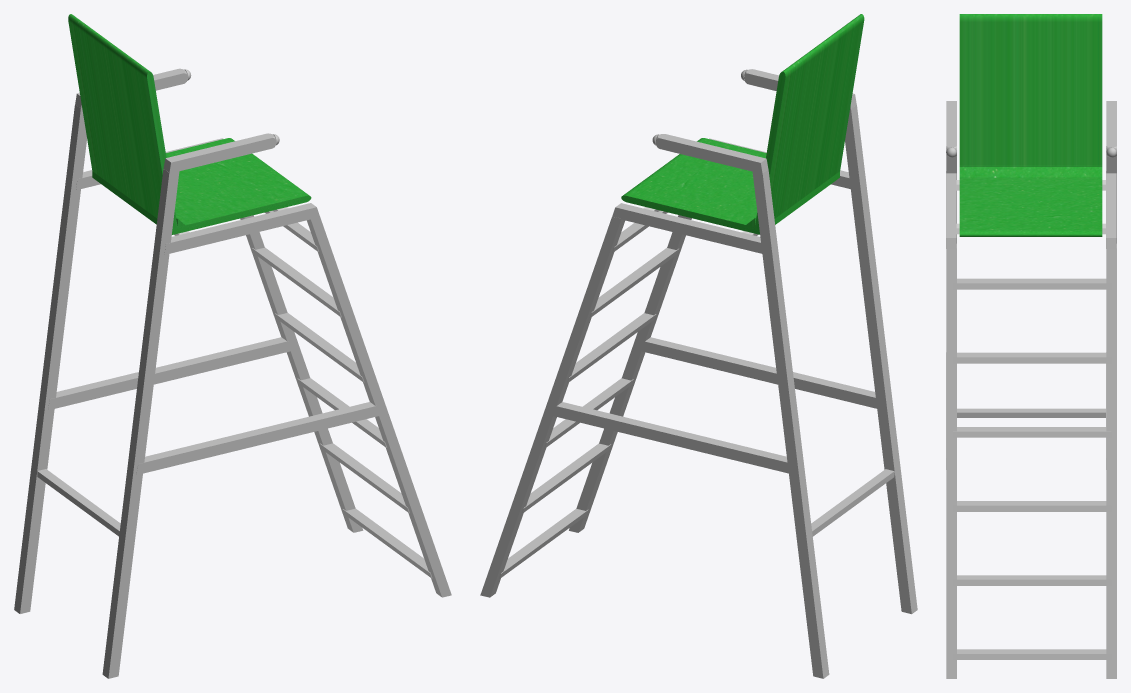
Rendered from ladder.fbx.
3 renders of one model, left to right at view 1: azimuth 30°, elevation 25°; view 2: azimuth 150°, elevation 25°; view 3: azimuth 270°, elevation 25°, orthographic. The views are drawn at different scales.
Parts seen in each view (by area): view 1: Куб.004, Куб.002, Куб, Куб.007, Куб.001, Куб.003, Куб.005, Куб.008; view 2: Куб.004, Куб.002, Куб, Куб.007, Куб.001, Куб.003, Куб.005, Куб.008; view 3: Куб.004, Куб.001, Куб, Куб.003, Куб.008, Куб.005, Куб.002.
Part boxes in pixels (box(x1,y1,x2,y2)): Куб.004: box(68, 14, 311, 234); Куб.002: box(14, 104, 179, 678); Куб: box(240, 215, 451, 597); Куб.007: box(48, 337, 382, 474); Куб.001: box(252, 210, 432, 578); Куб.003: box(76, 138, 319, 254); Куб.005: box(75, 68, 276, 173); Куб.008: box(37, 469, 120, 536); Куб.004: box(621, 14, 864, 234); Куб.002: box(752, 104, 917, 678); Куб: box(480, 215, 691, 597); Куб.007: box(553, 337, 876, 473); Куб.001: box(499, 210, 678, 578); Куб.003: box(612, 138, 850, 253); Куб.005: box(655, 69, 856, 173); Куб.008: box(811, 469, 894, 536); Куб.004: box(959, 14, 1102, 236); Куб.001: box(953, 278, 1111, 659); Куб: box(946, 244, 1116, 678); Куб.003: box(946, 171, 1116, 248); Куб.008: box(957, 408, 1105, 417); Куб.005: box(946, 101, 1116, 156); Куб.002: box(946, 156, 1116, 243).
Size of the model in its own units: 1225 by 2011 by 583.
